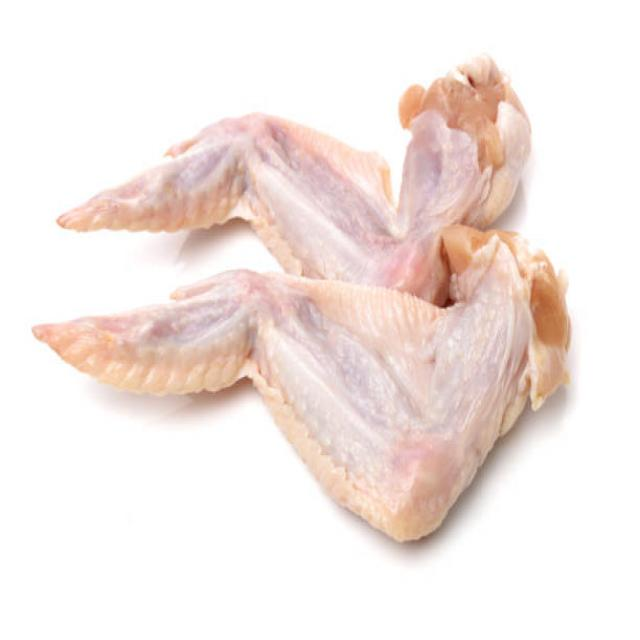Chicken: (37, 272, 568, 548), (51, 71, 537, 262)
